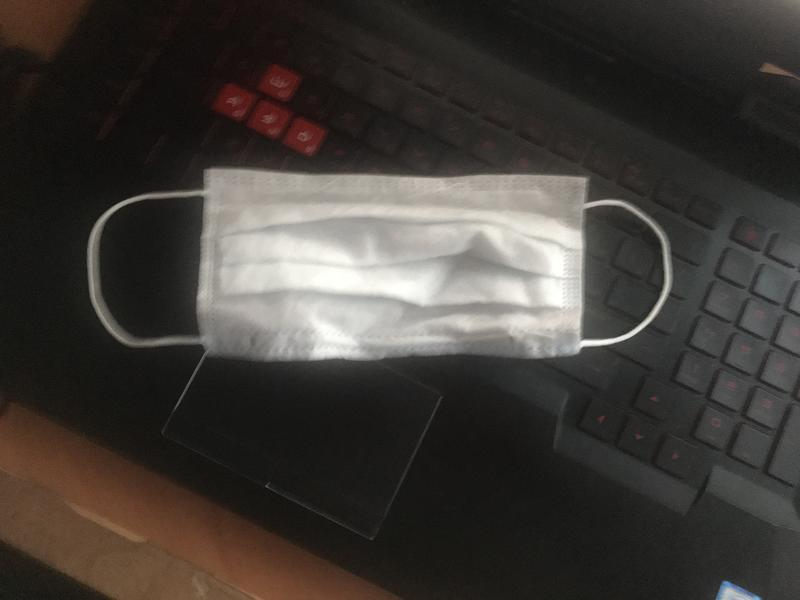medical_mask: (87, 168, 672, 359)
